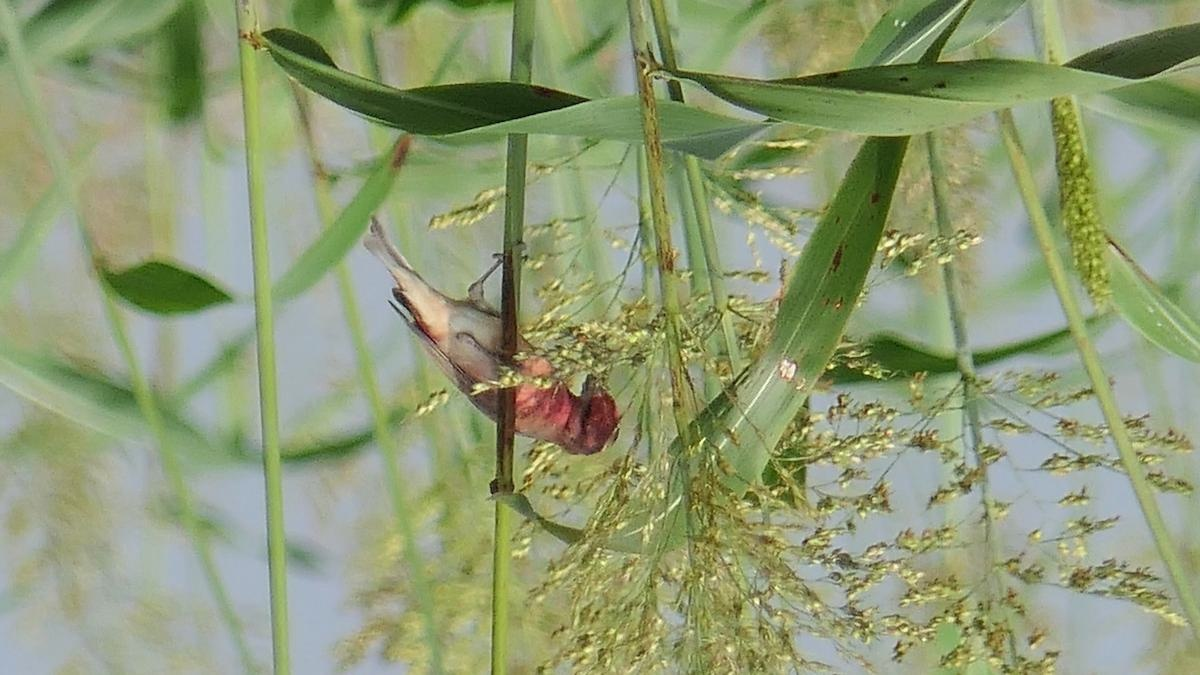rosefinch: (349, 205, 616, 473)
